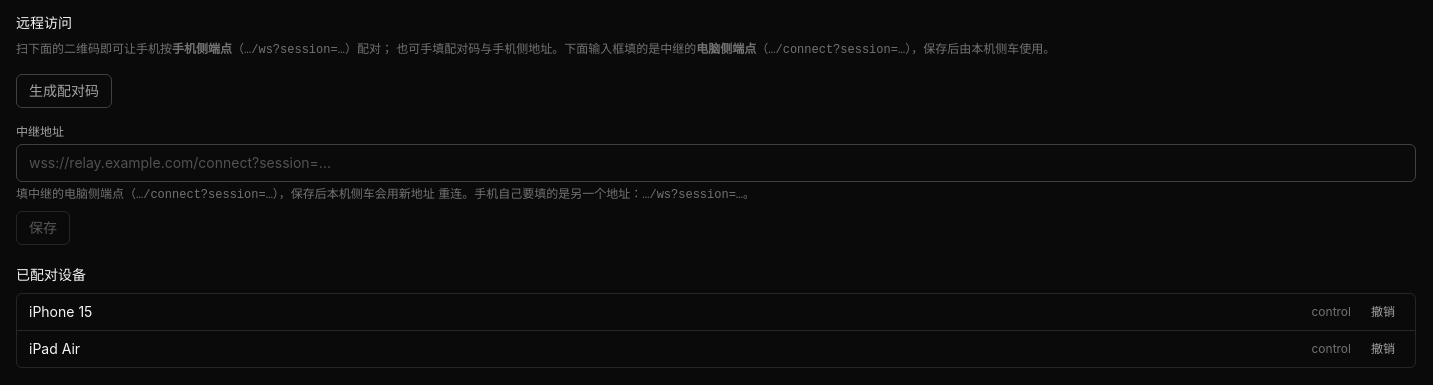
SettingsRemoteTab › revokes a device and drops its row, reading the server's `revoked` ack
Click the button with aria-label "撤销 iPhone 15" at (1383,312), box x1=1363 y1=302 x2=1403 y2=322
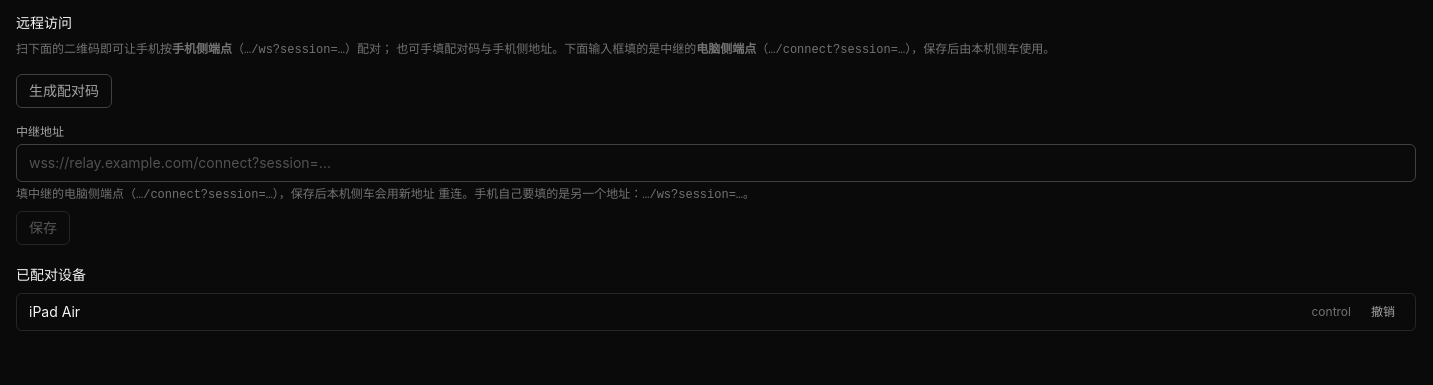
Expected: the text "iPad Air" is shown, x1=29 y1=303 x2=80 y2=320
Expected: the text "iPhone 15" is gone
